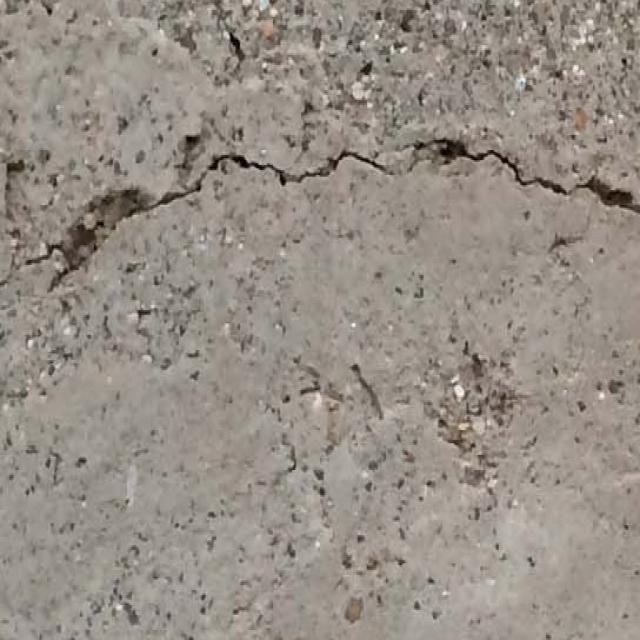Transverse: (235, 130, 640, 214)
Turtle-shell patterned: (245, 319, 565, 526), (1, 152, 222, 299)
